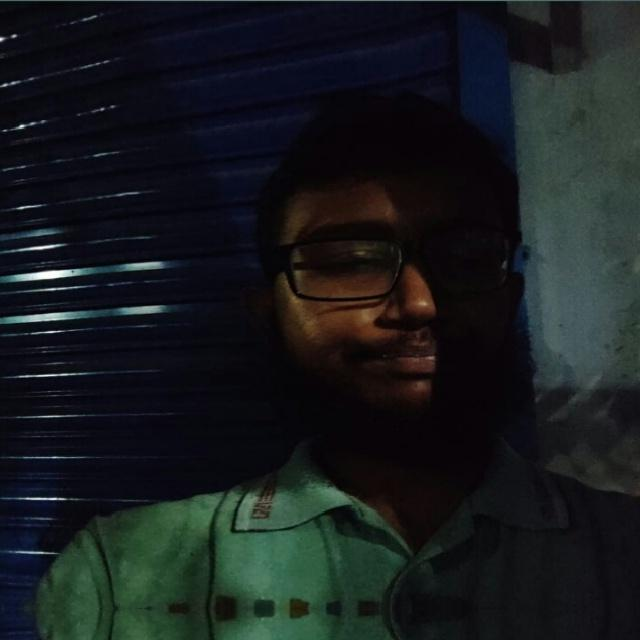Sad: (243, 123, 537, 490)
